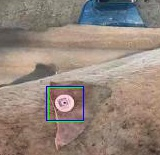text: (48, 87, 83, 121)
